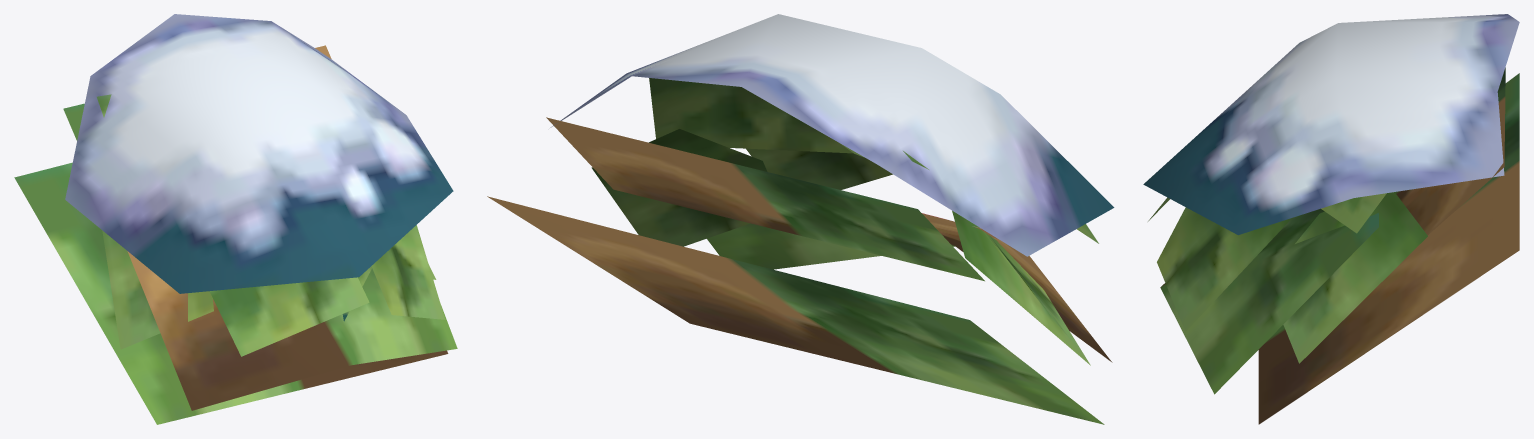
The model's file is fg_bushB_2_pi.dae.
The picture shows the model from 3 angles, left to right: view 1: azimuth 30°, elevation 25°; view 2: azimuth 150°, elevation 25°; view 3: azimuth 270°, elevation 25°; orthographic projection. The views are drawn at different scales.
Parts seen in each view (by area): view 1: fg_bushB_2_pi; view 2: fg_bushB_2_pi; view 3: fg_bushB_2_pi.
Part boxes in pixels (x1,y1,x2,y2): fg_bushB_2_pi: (14,14,457,424); fg_bushB_2_pi: (487,14,1114,424); fg_bushB_2_pi: (1143,14,1519,424).
Size of the model in its own units: 43.24 by 35.41 by 37.79.
Materials: 1 (1 with a texture image).
